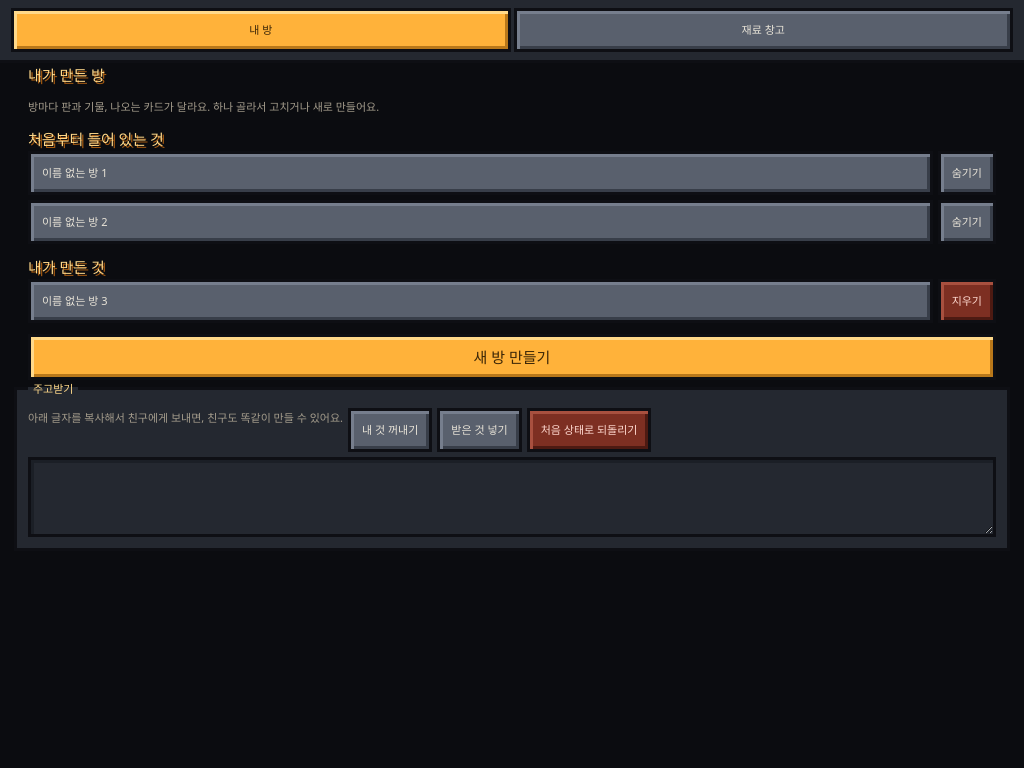
Test case: the library splits by origin too › shows both headings for a kind the child has never touched
Click the button with test id "editor-tab-library" at (763, 30), box [514,8,1013,52]
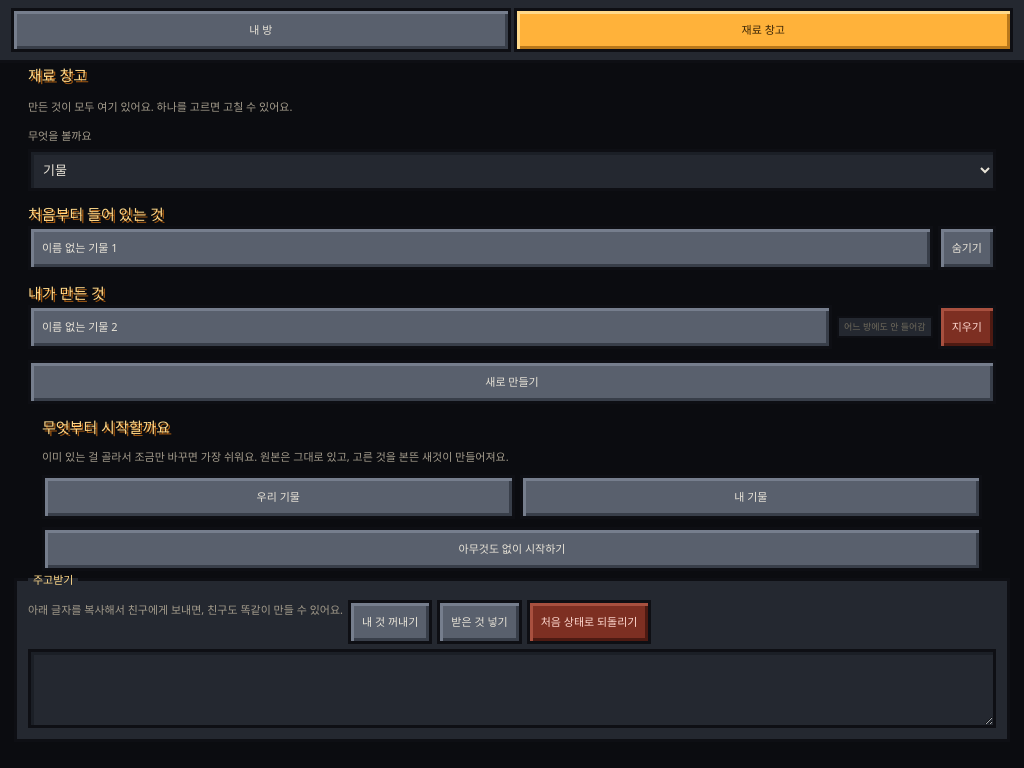
// Rule cards: the fixture has none at all, of either origin.
Select "규칙 카드" in the dropdown with test id "editor-kind" at (512, 170), box [28,149,996,191]
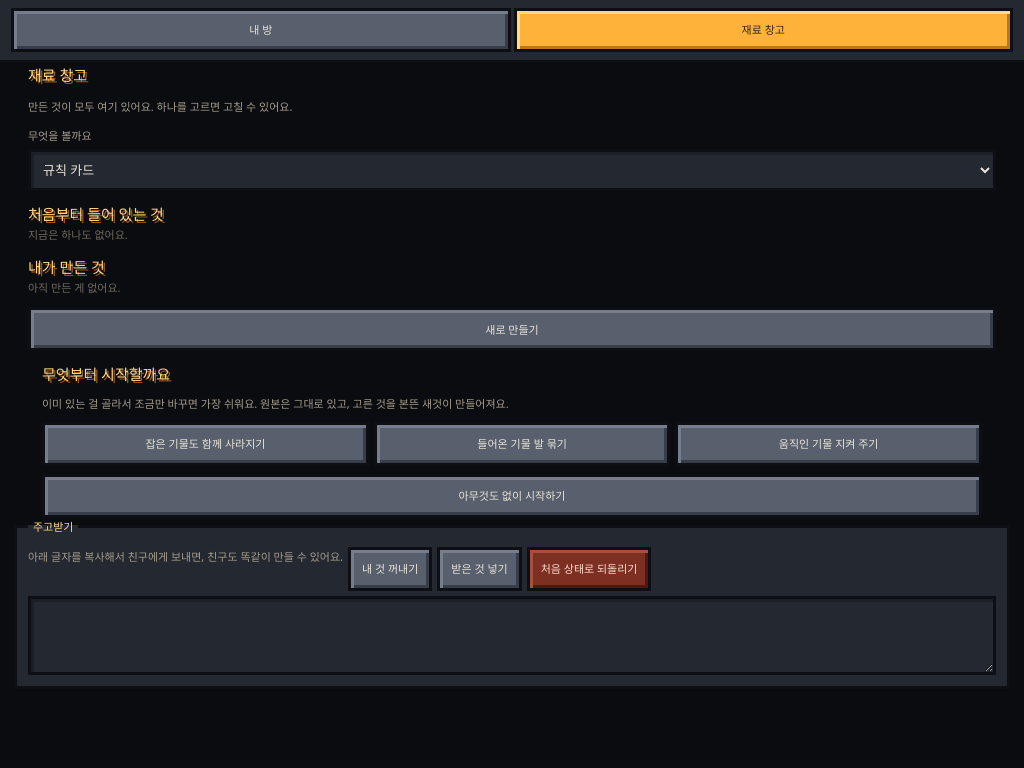
Expected: the element with test id "library-section-official" is shown, [28,204,164,242]
Expected: the element with test id "library-section-authored" is shown, [28,257,120,295]
Expected: the list item "지금은 하나도 없어요." is shown, [28,227,128,242]
